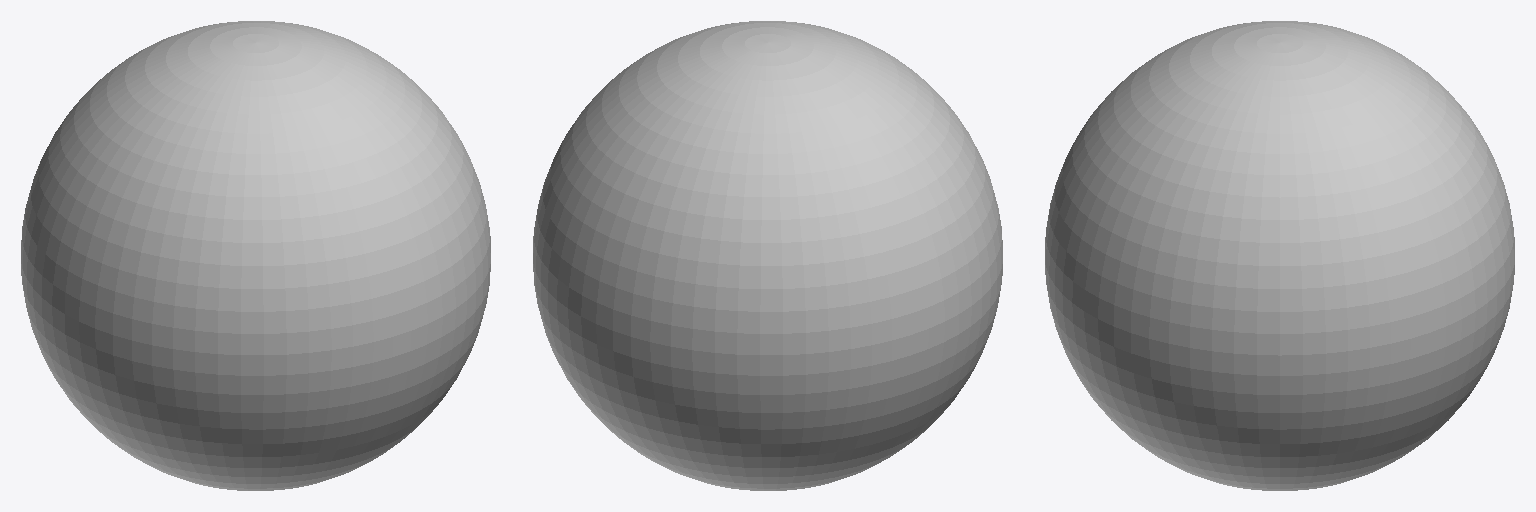
The model's file is mercury.obj.
3 renders of one model, left to right at view 1: azimuth 30°, elevation 25°; view 2: azimuth 150°, elevation 25°; view 3: azimuth 270°, elevation 25°, orthographic.
Parts seen in each view (by area): view 1: Sphere001; view 2: Sphere001; view 3: Sphere001.
Part boxes in pixels (left/top/right/bottom): Sphere001: left=21, top=21, right=490, bottom=490; Sphere001: left=533, top=21, right=1002, bottom=490; Sphere001: left=1045, top=21, right=1514, bottom=490.
Size of the model in its own units: 10 by 10 by 10.